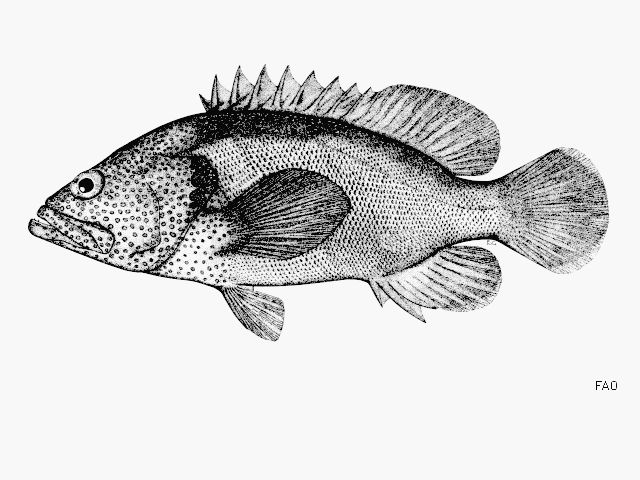fish: (28, 64, 609, 341)
